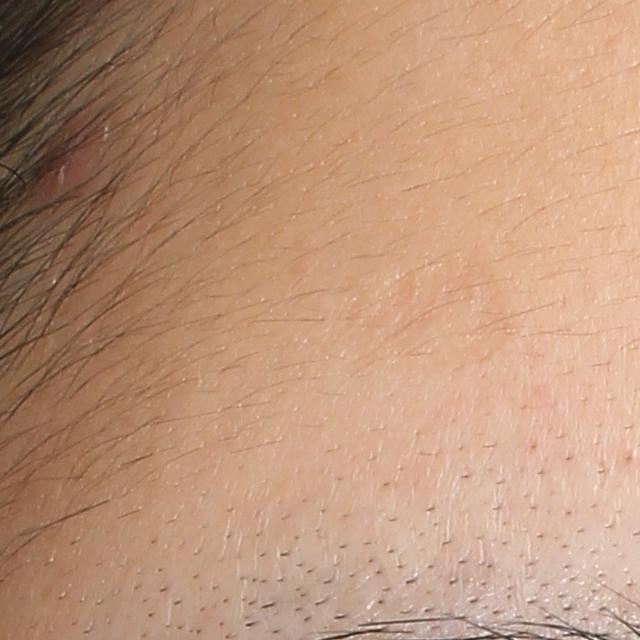papule: (30, 121, 107, 196)
